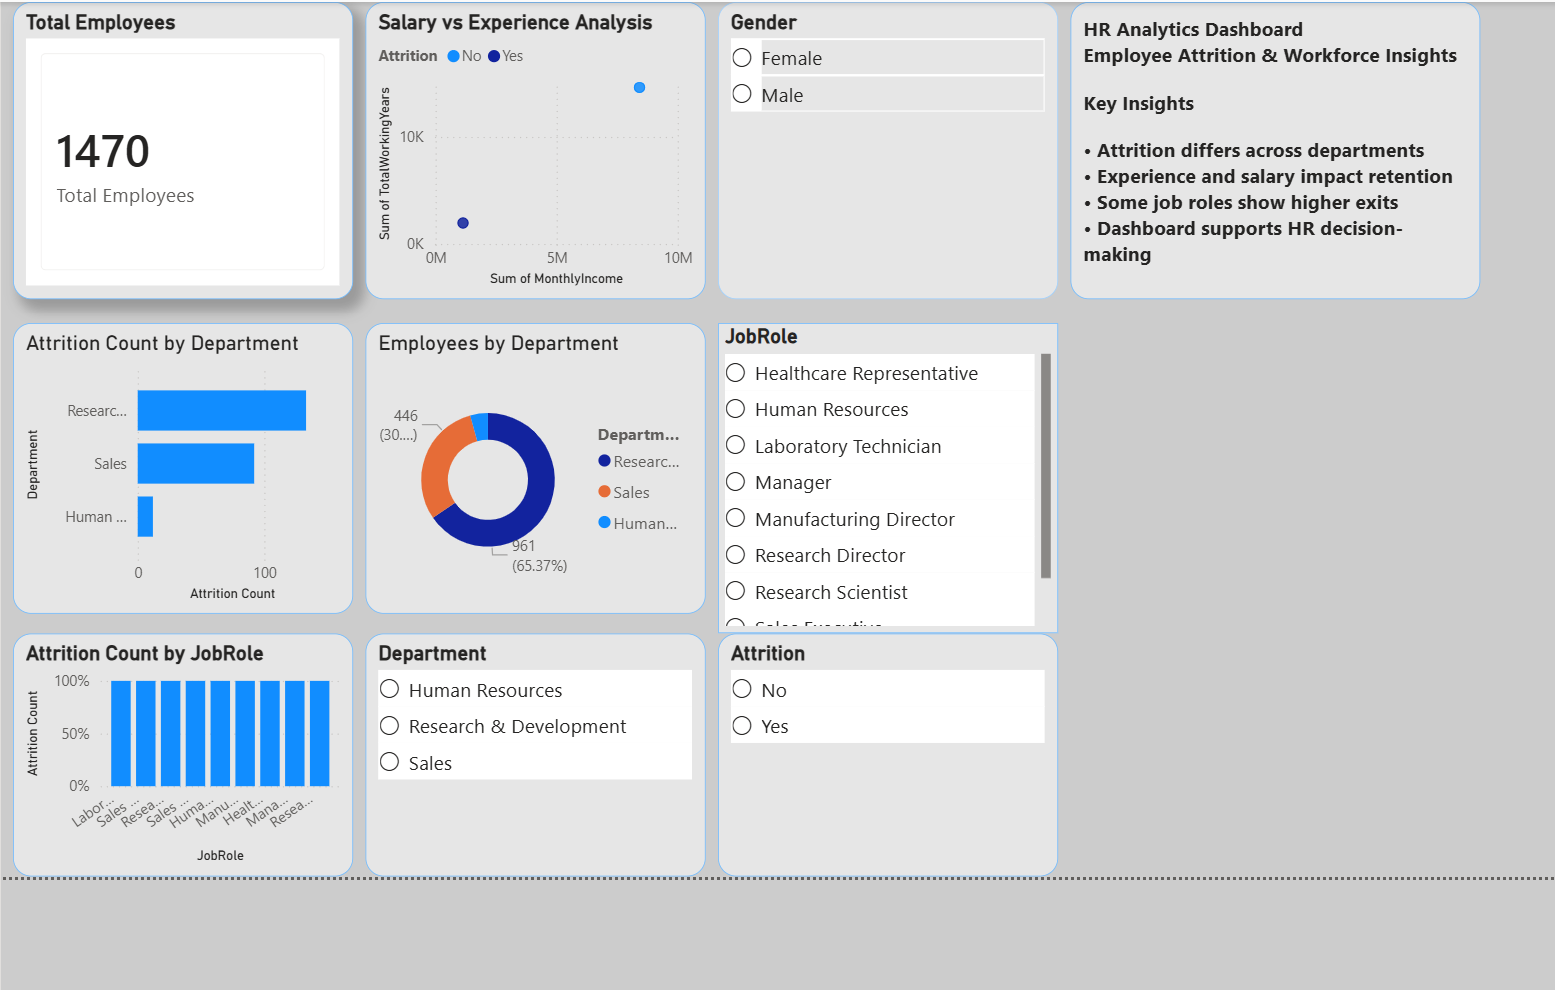

The dashboard page shown, as its layout file describes it:
{"tool":"powerbi","page":{"name":"Page 1","canvas":[1280,720],"ordinal":0},"visuals":[{"type":"cardVisual","title":"Total Employees","fields":{"Data":["WA_Fn-UseC_-HR-Employee-Attrition.Total Employees"]},"box":[9.9,0,280.3,244.5],"z":0},{"type":"clusteredBarChart","fields":{"Category":["WA_Fn-UseC_-HR-Employee-Attrition.Department"],"Y":["WA_Fn-UseC_-HR-Employee-Attrition.Attrition Count"]},"box":[9.9,264.2,280.3,239.5],"z":1000},{"type":"hundredPercentStackedColumnChart","fields":{"Category":["WA_Fn-UseC_-HR-Employee-Attrition.JobRole"],"Y":["WA_Fn-UseC_-HR-Employee-Attrition.Attrition Count"]},"box":[9.9,519.8,280.3,200],"z":2000},{"type":"scatterChart","title":"Salary vs Experience Analysis","fields":{"X":["Sum(WA_Fn-UseC_-HR-Employee-Attrition.MonthlyIncome)"],"Y":["Sum(WA_Fn-UseC_-HR-Employee-Attrition.TotalWorkingYears)"],"Series":["WA_Fn-UseC_-HR-Employee-Attrition.Attrition"]},"box":[300,0,280.3,244.5],"z":3000},{"type":"donutChart","title":"Employees by Department","fields":{"Category":["WA_Fn-UseC_-HR-Employee-Attrition.Department"],"Y":["WA_Fn-UseC_-HR-Employee-Attrition.Total Employees"]},"box":[300,264.2,280.3,239.5],"z":4000},{"type":"listSlicer","fields":{"Values":["WA_Fn-UseC_-HR-Employee-Attrition.Department"]},"box":[300,519.8,280.3,200],"z":5000},{"type":"listSlicer","fields":{"Values":["WA_Fn-UseC_-HR-Employee-Attrition.Gender"]},"box":[590.2,0,280.3,244.5],"z":6000},{"type":"listSlicer","fields":{"Values":["WA_Fn-UseC_-HR-Employee-Attrition.JobRole"]},"box":[590.2,264.2,280.3,255.6],"z":7000},{"type":"listSlicer","fields":{"Values":["WA_Fn-UseC_-HR-Employee-Attrition.Attrition"]},"box":[590.2,519.8,280.3,200],"z":8000},{"type":"textbox","box":[880.4,0,337.1,244.5],"z":9000}]}

Visuals, with their boxes in screenshot pixels (x1, y1, x2, y2):
"Total Employees" cardVisual: bbox=[56, 45, 380, 327]
clusteredBarChart - WA_Fn-UseC_-HR-Employee-Attrition.Department x WA_Fn-UseC_-HR-Employee-Attrition.Attrition Count: bbox=[56, 350, 380, 627]
hundredPercentStackedColumnChart - WA_Fn-UseC_-HR-Employee-Attrition.JobRole x WA_Fn-UseC_-HR-Employee-Attrition.Attrition Count: bbox=[56, 645, 380, 876]
"Salary vs Experience Analysis" scatterChart: bbox=[391, 45, 715, 327]
"Employees by Department" donutChart: bbox=[391, 350, 715, 627]
listSlicer - WA_Fn-UseC_-HR-Employee-Attrition.Department: bbox=[391, 645, 715, 876]
listSlicer - WA_Fn-UseC_-HR-Employee-Attrition.Gender: bbox=[727, 45, 1050, 327]
listSlicer - WA_Fn-UseC_-HR-Employee-Attrition.JobRole: bbox=[727, 350, 1050, 645]
listSlicer - WA_Fn-UseC_-HR-Employee-Attrition.Attrition: bbox=[727, 645, 1050, 876]
textbox: bbox=[1062, 45, 1451, 327]
